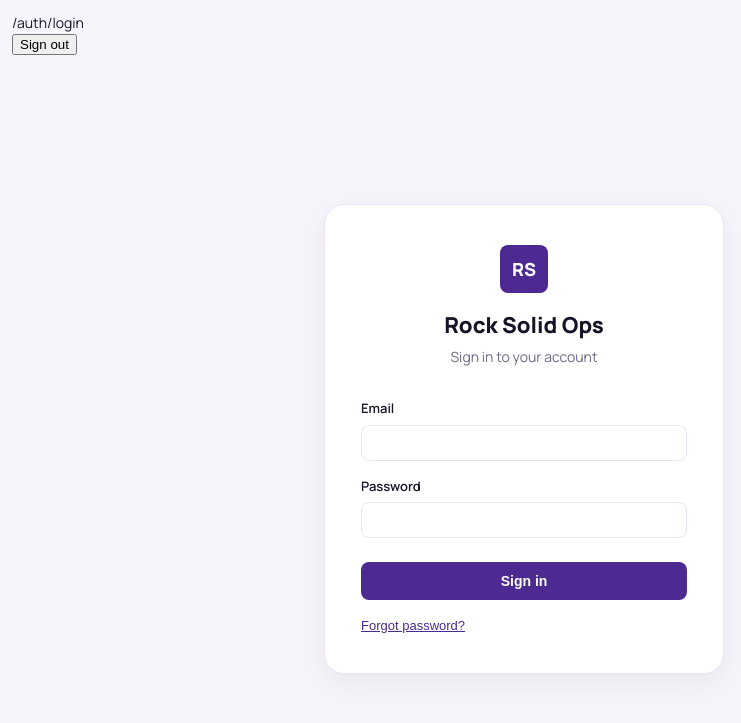
first-login race › a wrong password keeps the user on the form with the auth error
Step 1. Type "admin@rso.test" into the field labelled "Email" → (524, 442), box [361,424,687,460]
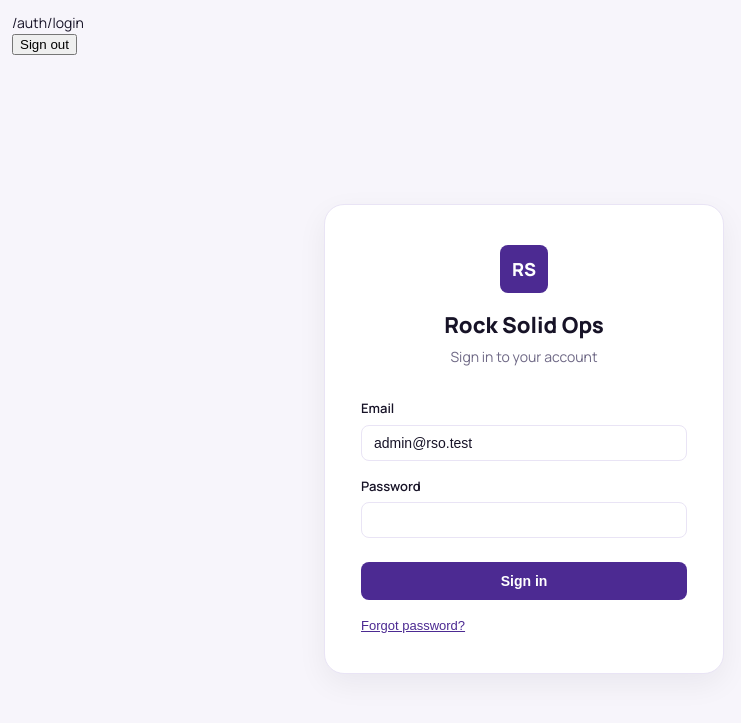
Step 2. Type "wrong-password" into the password field labelled "Password" → (524, 520), box [361,502,687,538]
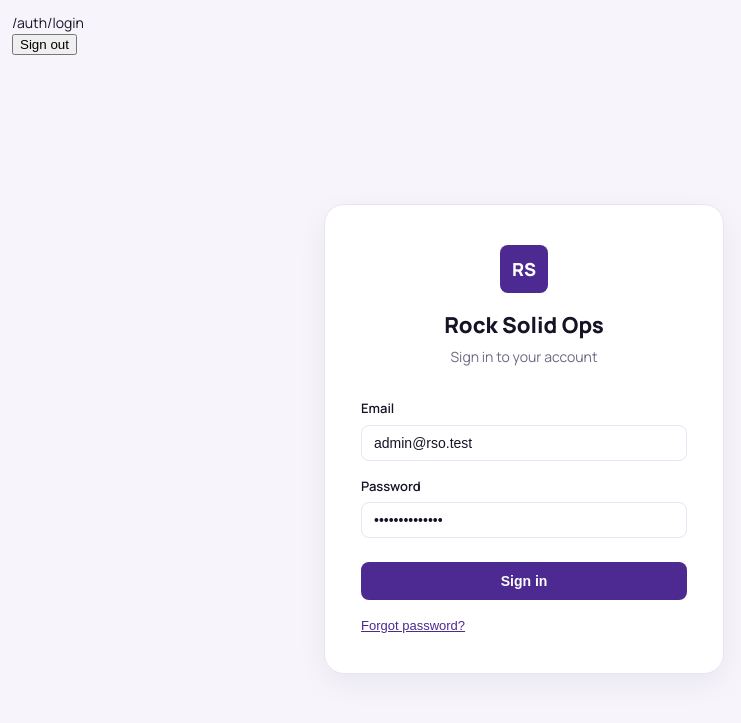
Step 3. Click the button "Sign in" → (524, 581), box [361,562,687,600]
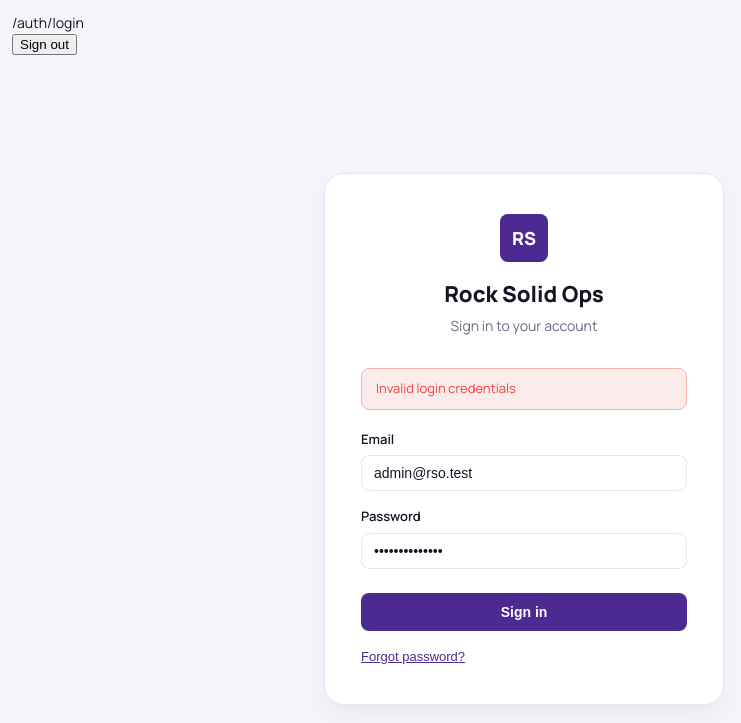
expect the button "Sign in" is shown: met, box [361,593,687,631]
expect the text "Invalid login credentials" is shown: met, box [361,368,687,410]
